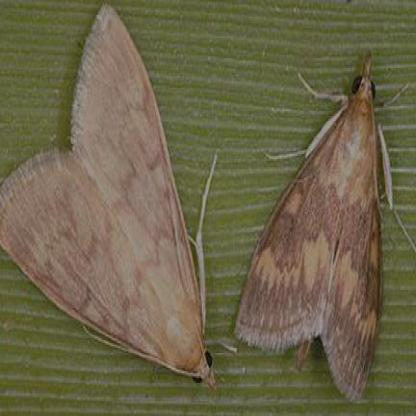stem-borer: (0, 0, 225, 416), (233, 48, 416, 407)
